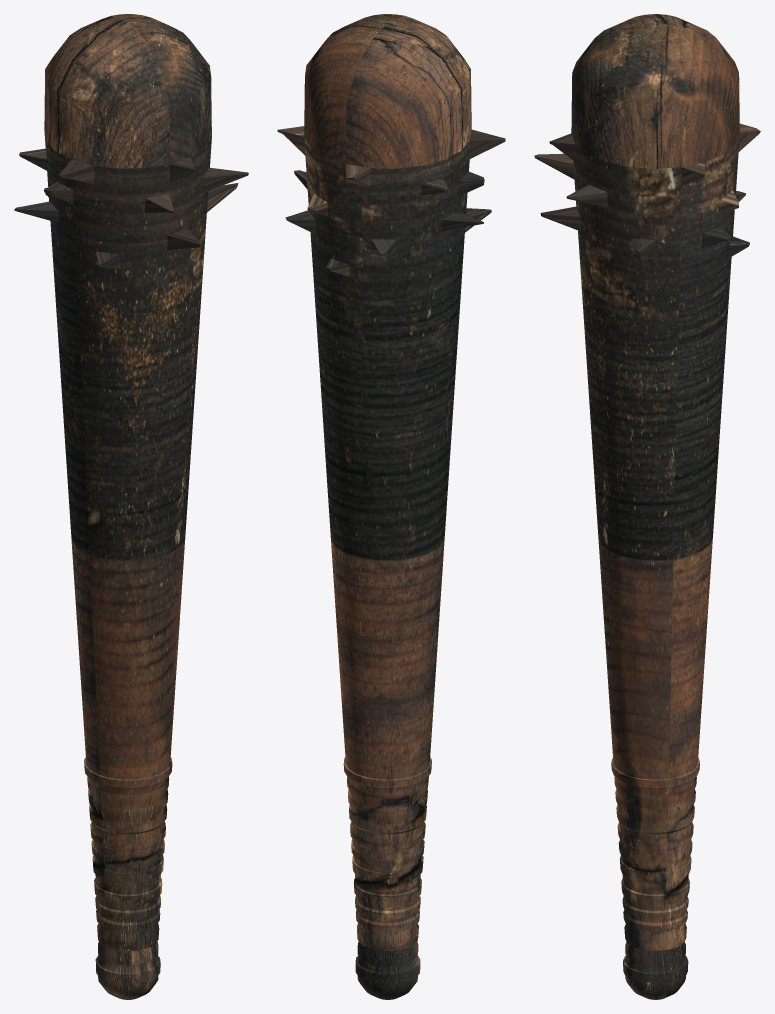
Rendered from clubtextured.fbx.
The picture shows the model from 3 angles, left to right: view 1: azimuth 30°, elevation 25°; view 2: azimuth 150°, elevation 25°; view 3: azimuth 270°, elevation 25°; orthographic projection.
Visible parts, largest first — view 1: pCylinder1; view 2: pCylinder1; view 3: pCylinder1.
Part boxes in pixels (left/top/right/bottom): pCylinder1: left=14, top=14, right=248, bottom=999; pCylinder1: left=277, top=14, right=505, bottom=999; pCylinder1: left=534, top=14, right=760, bottom=999.
Bounding box in the file's own units: 3.81 × 17.11 × 3.61.
